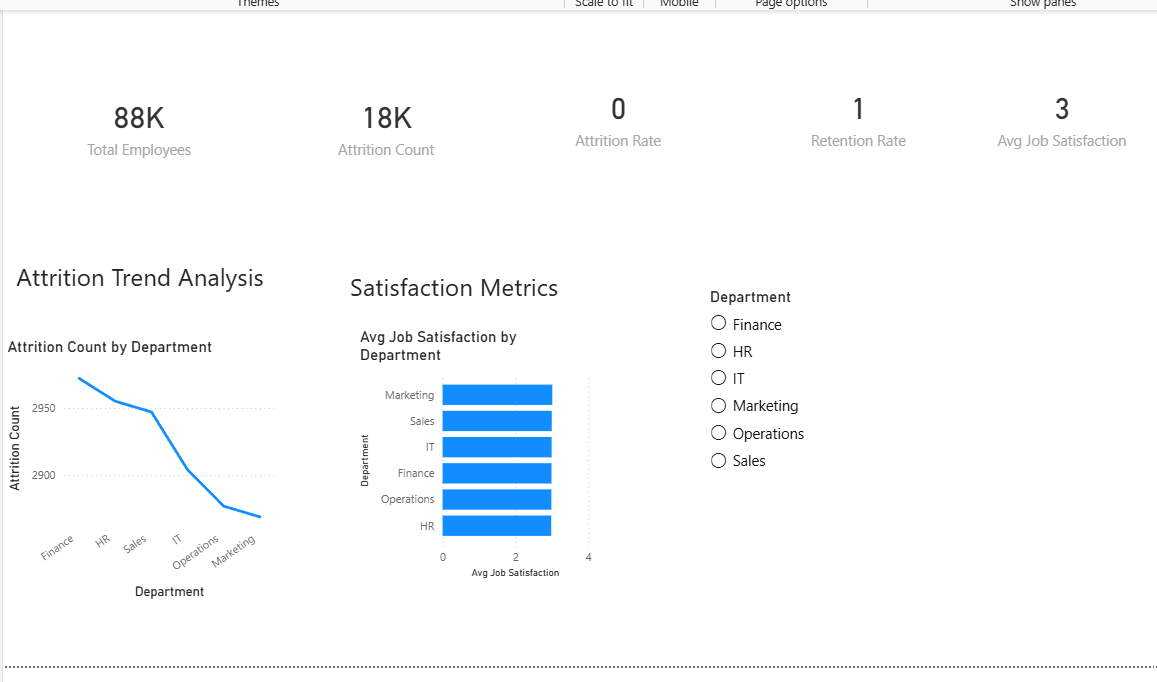

Layout of this report page (visuals, bound fields, positions):
{"tool":"powerbi","page":{"name":"executive overiew","canvas":[1280,720],"ordinal":0},"visuals":[{"type":"advanceCardE03760C5AB684758B56AA29F9E6C257B","fields":{"mainMeasure":["Employee_Attrition_500K.Total Employees"]},"box":[9.6,0,279.9,259.3],"z":0},{"type":"advanceCardE03760C5AB684758B56AA29F9E6C257B","fields":{"mainMeasure":["Employee_Attrition_500K.Attrition Count"]},"box":[289.5,0,263.5,259.3],"z":1000},{"type":"advanceCardE03760C5AB684758B56AA29F9E6C257B","fields":{"mainMeasure":["Employee_Attrition_500K.Attrition Rate"]},"box":[553,0,245.6,240.1],"z":2000},{"type":"advanceCardE03760C5AB684758B56AA29F9E6C257B","fields":{"mainMeasure":["Employee_Attrition_500K.Retention Rate"]},"box":[798.6,0,281.3,240.1],"z":3000},{"type":"advanceCardE03760C5AB684758B56AA29F9E6C257B","fields":{"mainMeasure":["Employee_Attrition_500K.Avg Job Satisfaction"]},"box":[1060.7,0,204.5,240.1],"z":4000},{"type":"textbox","box":[9.6,269,303.3,49.4],"z":5000},{"type":"lineChart","fields":{"Y":["Employee_Attrition_500K.Attrition Count"],"Category":["Employee_Attrition_500K.Department"]},"box":[0,359.5,303.3,292.3],"z":6000},{"type":"textbox","box":[376,279.9,299.1,49.4],"z":7000},{"type":"barChart","fields":{"Category":["Employee_Attrition_500K.Department"],"Y":["Employee_Attrition_500K.Avg Job Satisfaction"]},"box":[387,348.5,264.8,279.9],"z":8000},{"type":"listSlicer","fields":{"Values":["Employee_Attrition_500K.Department"]},"box":[771.2,304.6,245.6,234.6],"z":9000}]}

Visuals, with their boxes on the page's 1280x720 design canvas (x1, y1, x2, y2). These are canvas units, not pixel positions in the 1157x682 screenshot, which may show the page scaled, cropped or inside an application window:
advanceCardE03760C5AB684758B56AA29F9E6C257B - Employee_Attrition_500K.Total Employees: x1=10 y1=0 x2=290 y2=259
advanceCardE03760C5AB684758B56AA29F9E6C257B - Employee_Attrition_500K.Attrition Count: x1=290 y1=0 x2=553 y2=259
advanceCardE03760C5AB684758B56AA29F9E6C257B - Employee_Attrition_500K.Attrition Rate: x1=553 y1=0 x2=799 y2=240
advanceCardE03760C5AB684758B56AA29F9E6C257B - Employee_Attrition_500K.Retention Rate: x1=799 y1=0 x2=1080 y2=240
advanceCardE03760C5AB684758B56AA29F9E6C257B - Employee_Attrition_500K.Avg Job Satisfaction: x1=1061 y1=0 x2=1265 y2=240
textbox: x1=10 y1=269 x2=313 y2=318
lineChart - Employee_Attrition_500K.Attrition Count x Employee_Attrition_500K.Department: x1=0 y1=360 x2=303 y2=652
textbox: x1=376 y1=280 x2=675 y2=329
barChart - Employee_Attrition_500K.Department x Employee_Attrition_500K.Avg Job Satisfaction: x1=387 y1=348 x2=652 y2=628
listSlicer - Employee_Attrition_500K.Department: x1=771 y1=305 x2=1017 y2=539
